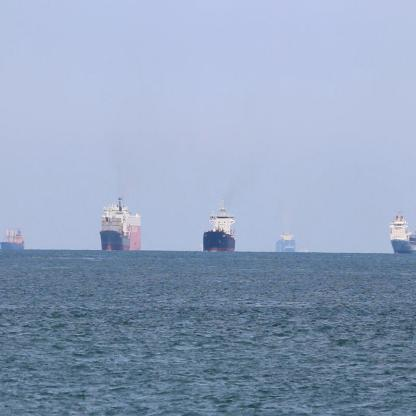Container Ship: (99, 197, 141, 254), (203, 198, 236, 255), (388, 210, 416, 258), (0, 226, 24, 252), (276, 233, 294, 256), (294, 244, 308, 256)
